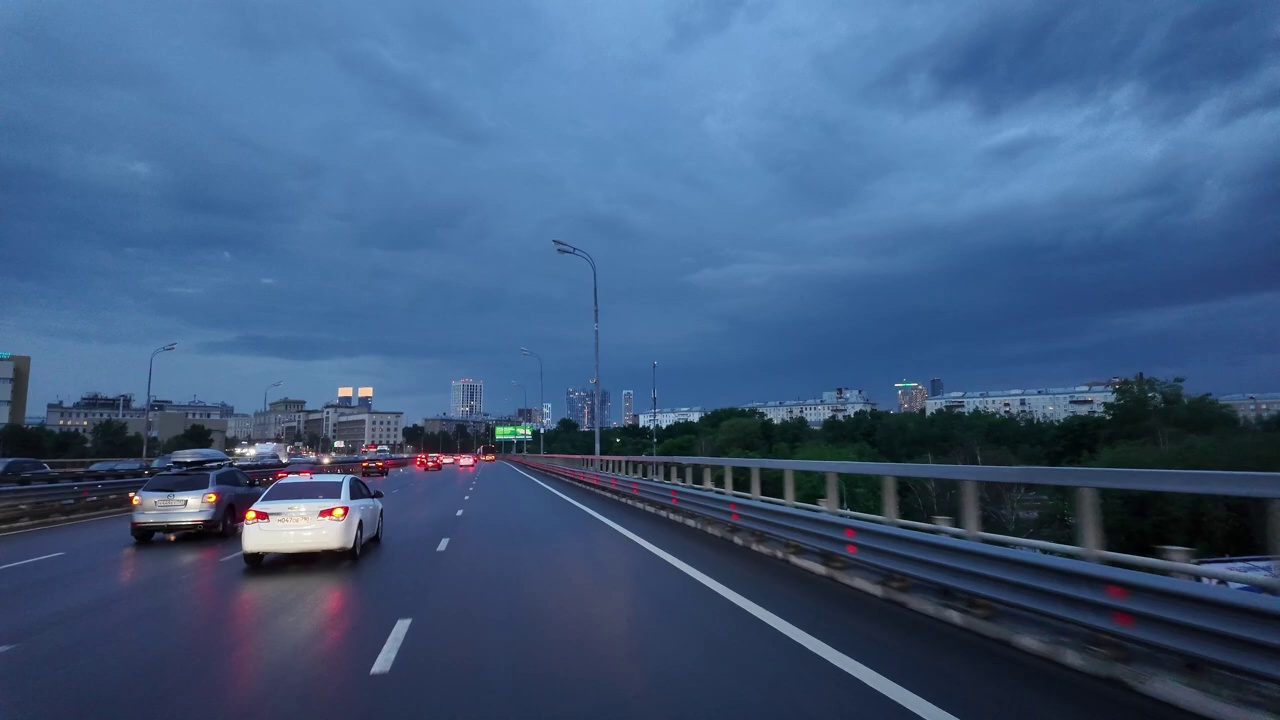apagada: (548, 234, 579, 263)
